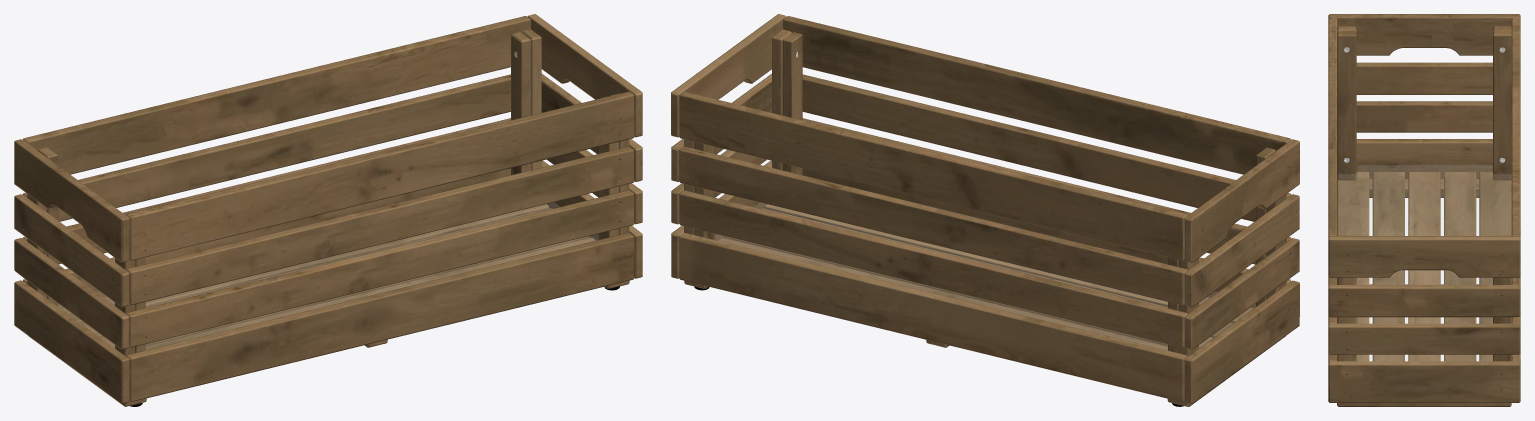
Rendered from stjarnanis-outdoor-planter-acacia-90612029.glb.
3 views of the same model, side by side, from view 1: azimuth 30°, elevation 25°; view 2: azimuth 150°, elevation 25°; view 3: azimuth 270°, elevation 25° (orthographic). The views are drawn at different scales.
Visible parts, largest first — view 1: 10584775_flower_box.002, 10584775_flower_box.003; view 2: 10584775_flower_box.002, 10584775_flower_box.003; view 3: 10584775_flower_box.002, 10584775_flower_box.003.
Boxes of the visible parts, <box> form: 10584775_flower_box.002: <box>14,14,642,406</box>; 10584775_flower_box.003: <box>58,203,598,349</box>; 10584775_flower_box.002: <box>671,14,1299,406</box>; 10584775_flower_box.003: <box>715,203,1255,349</box>; 10584775_flower_box.002: <box>1328,14,1520,406</box>; 10584775_flower_box.003: <box>1338,165,1510,360</box>.
Size of the model in its own units: 0.7505 by 0.27 by 0.2703.
2 materials, 2 textured.
